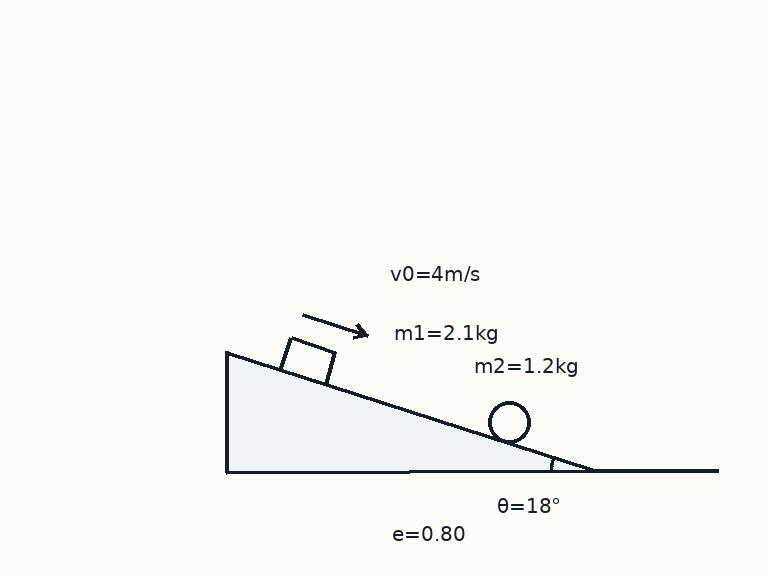ball: (486, 399, 532, 445)
block: (278, 336, 337, 386)
ramp: (224, 350, 593, 473)
